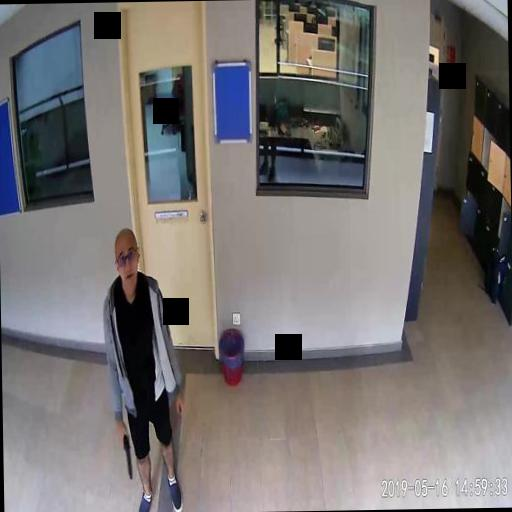Handgun: (119, 430, 132, 478)
